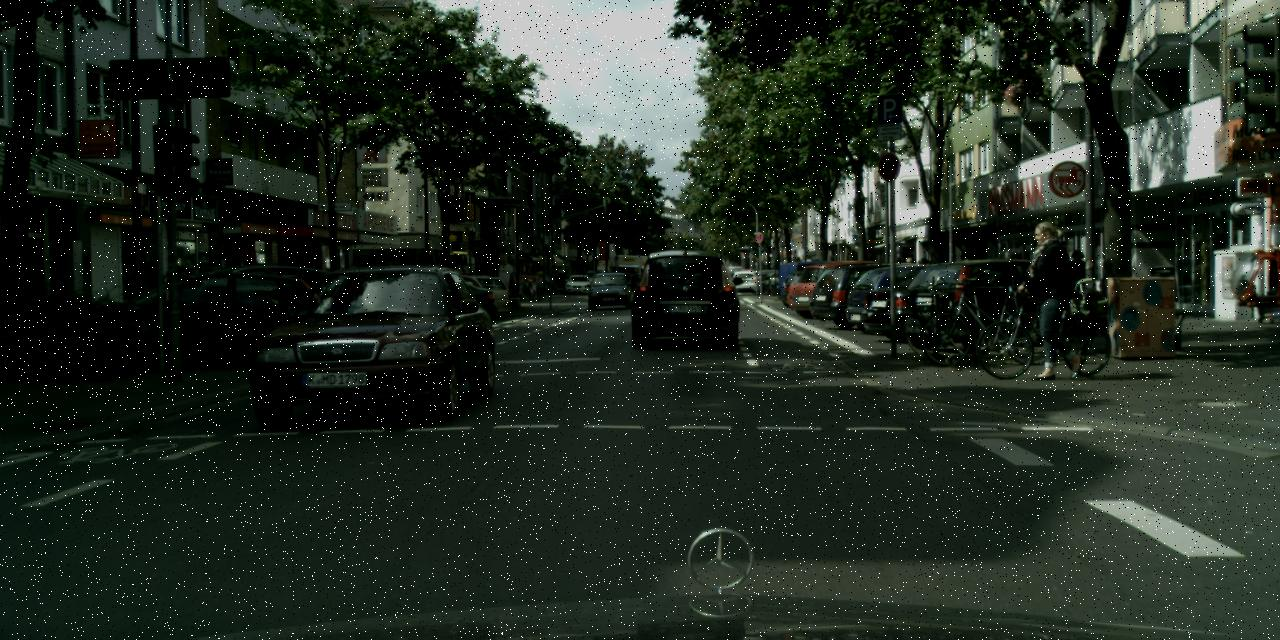ped: (1023, 222, 1085, 374), (1064, 250, 1090, 312), (146, 254, 170, 312), (163, 258, 185, 312)
